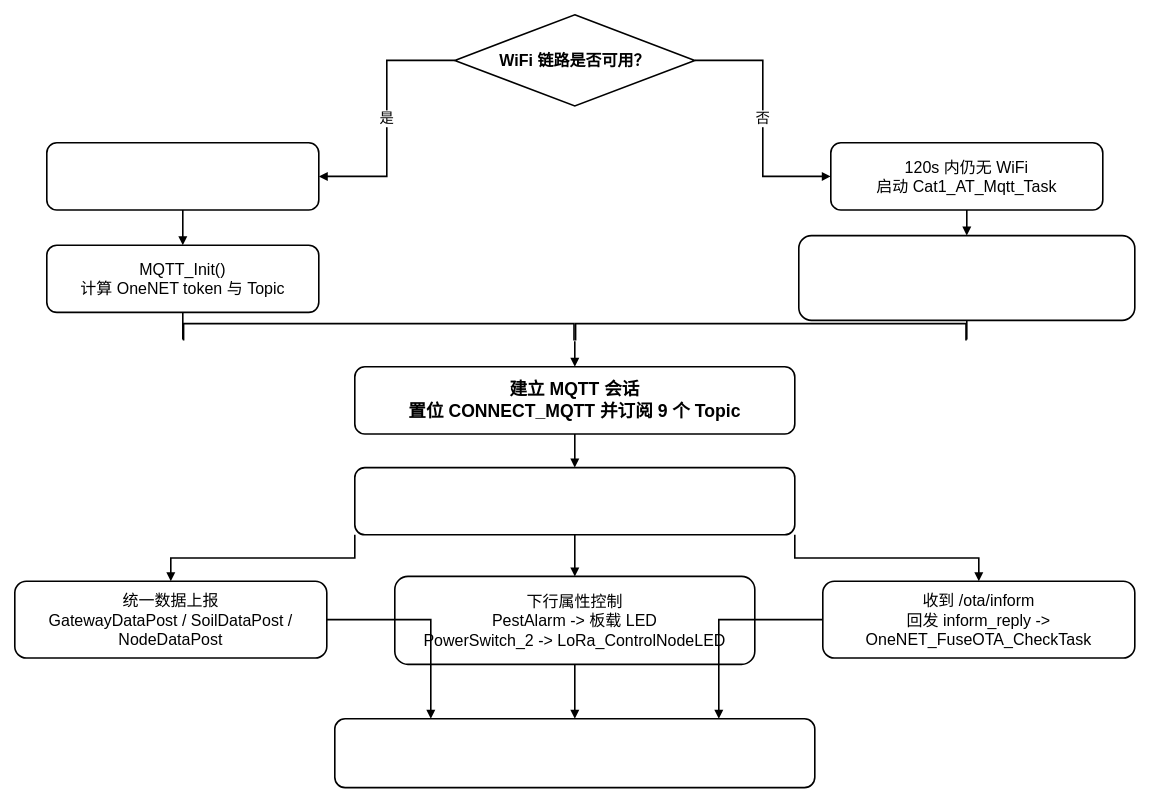
This 1149x802 diagram has some shape labels left out. The shapes that lost their labels are listed below. From the top down, each one's box as (x1, y1, x2, y2) in pixels, then its label:
(46, 142, 319, 210): WiFi 已连接 esp_mqtt_app_start()
(798, 234, 1135, 321): AT 检测 / 注网 / APN / QIACT QMTOPEN + QMTCONN 建立会话
(354, 466, 795, 535): 若 LoRa 已确认 调用 WiFi_Cat1_SubOnline() 上报子设备上线
(334, 718, 815, 788): OneNET 云平台 数据上报 + 指令下发 + OTA 通知
